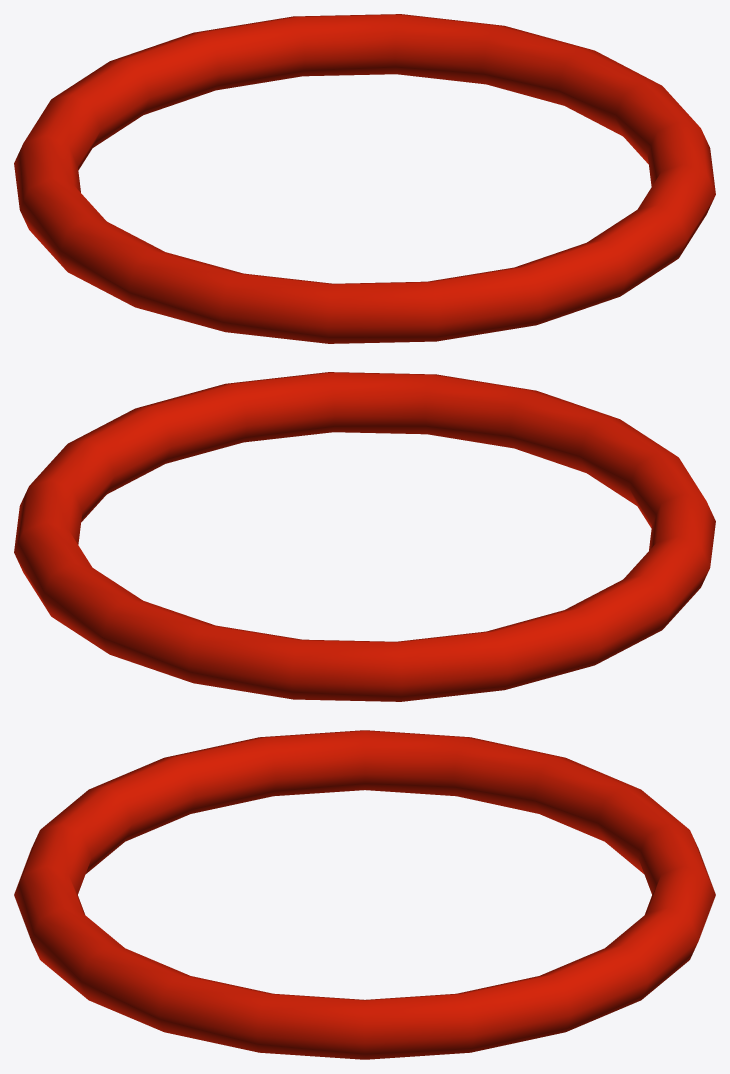
Rendered from redring.fbx.
3 renders of one model, top to bottom at view 1: azimuth 30°, elevation 25°; view 2: azimuth 150°, elevation 25°; view 3: azimuth 270°, elevation 25°, orthographic.
Visible parts, largest first — view 1: ring1; view 2: ring1; view 3: ring1.
Boxes of the visible parts, x1=… form: ring1: x1=14, y1=14, x2=715, y2=343; ring1: x1=14, y1=372, x2=715, y2=701; ring1: x1=14, y1=730, x2=715, y2=1059.
Size of the model in its own units: 2.2 by 0.2 by 2.2.
